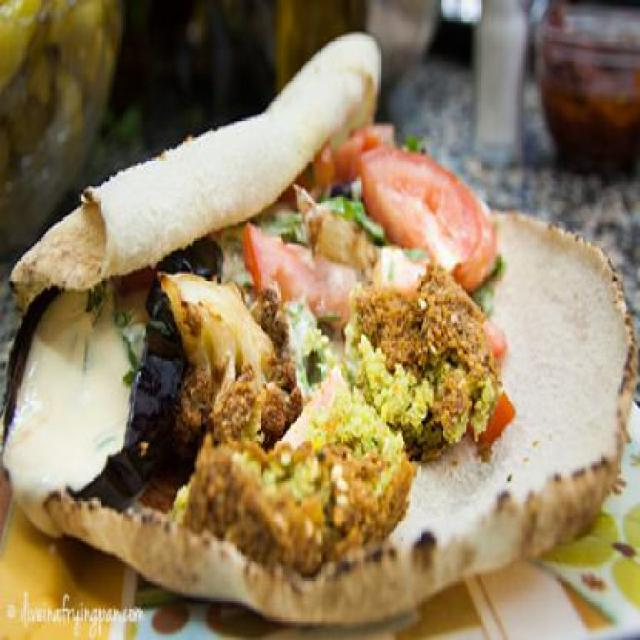eggplant: (7, 236, 218, 529)
falafel: (198, 252, 507, 566)
hummus: (14, 304, 143, 499)
